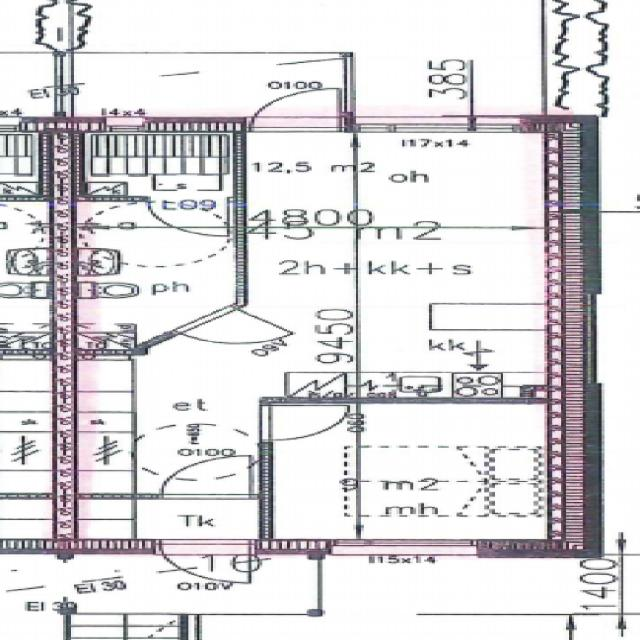door: (172, 305, 293, 358), (160, 538, 248, 594), (252, 79, 340, 133), (162, 456, 250, 498), (260, 405, 350, 440), (149, 196, 228, 235)
